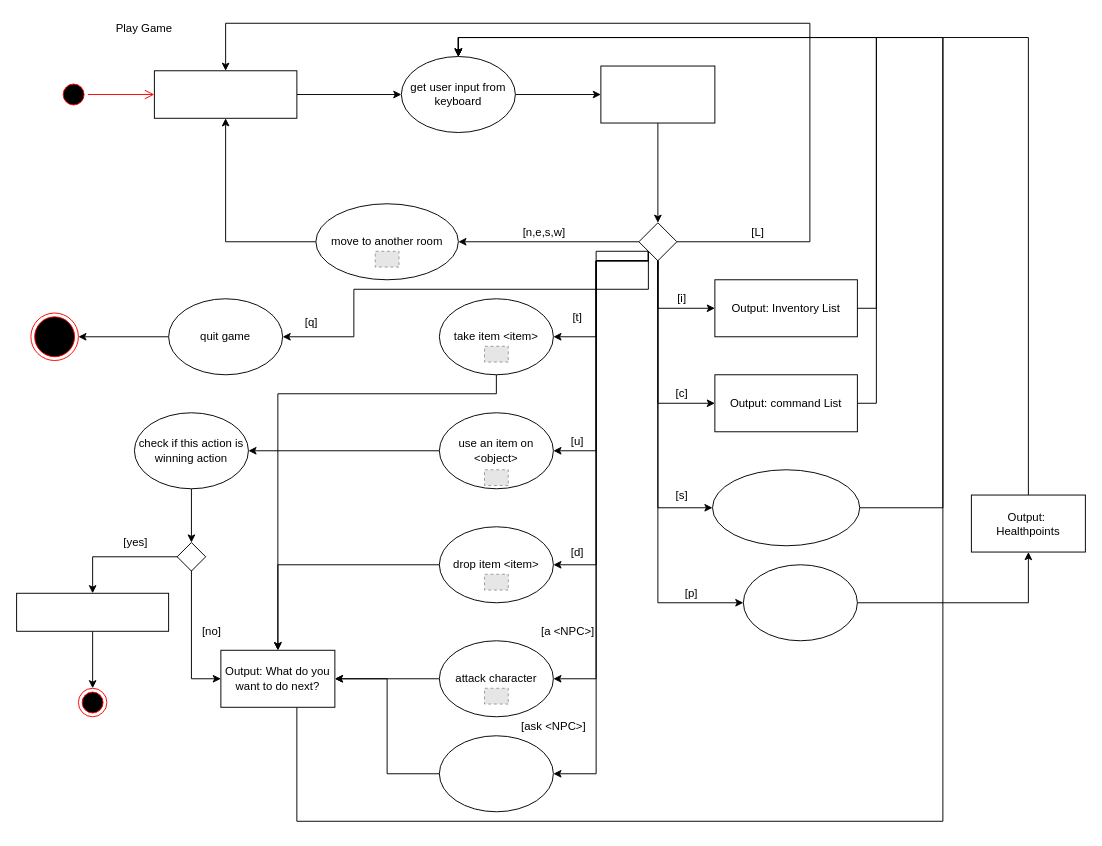
The diagram is 1102 pixels wide and 846 high, and some of its shapes have lost their labels. Grey dashed boxes stand in for pictures. Here are the shapes that lost their labels. From the top down, the box of each, then its label:
(153, 70, 297, 118): Output: Room Descripton
(600, 65, 715, 123): user input
(712, 469, 860, 546): save the game
(16, 592, 169, 631): Output: You won this Game. Gratulation
(742, 564, 857, 641): take posion
(438, 735, 553, 812): ask character for information
